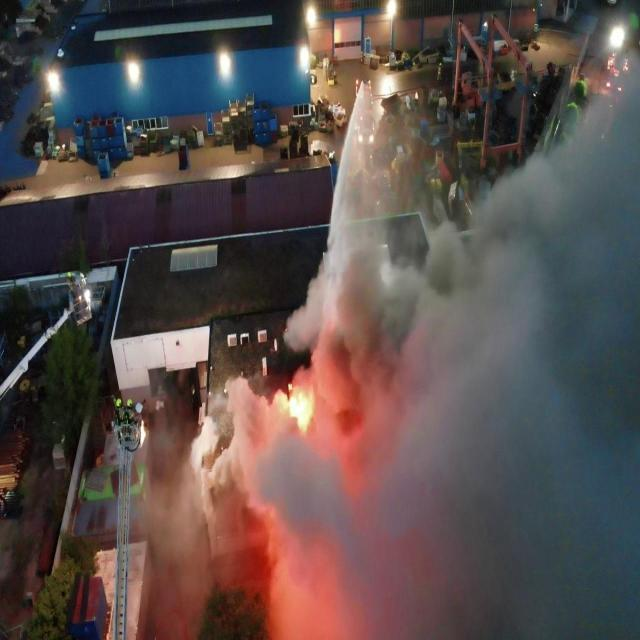Fire: (289, 392, 311, 430), (288, 384, 292, 391)
Smoke: (140, 47, 639, 640)
